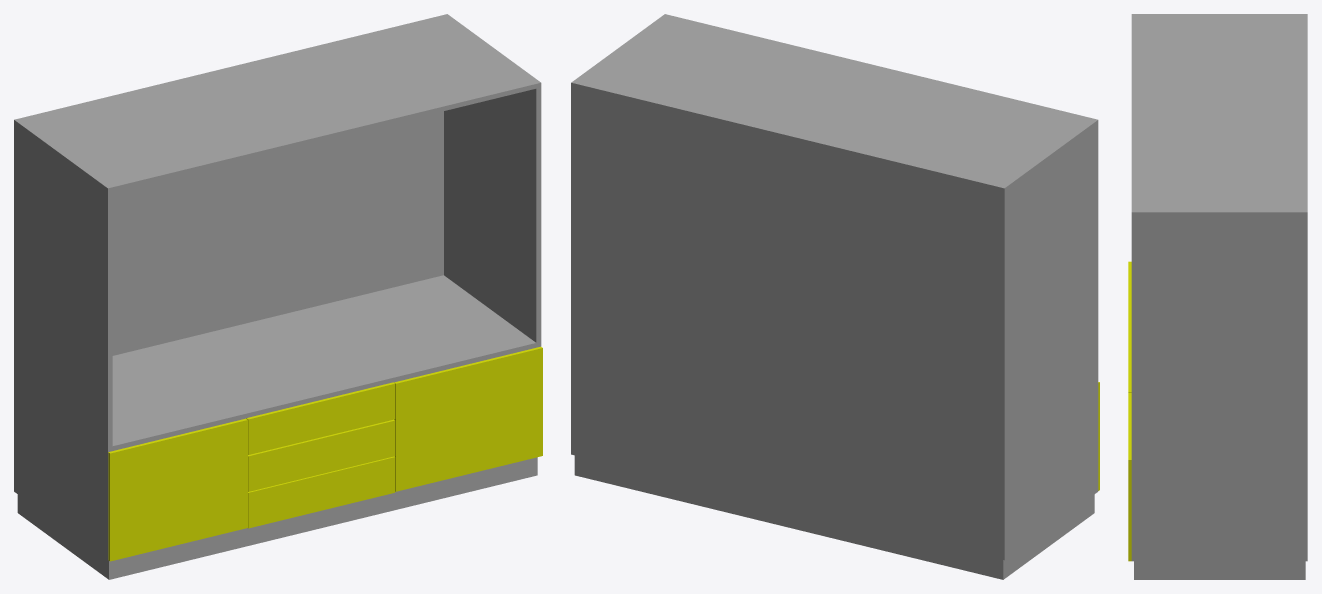
The model's file is ShelvingUnit.fbx.
The picture shows the model from 3 angles, left to right: view 1: azimuth 30°, elevation 25°; view 2: azimuth 150°, elevation 25°; view 3: azimuth 270°, elevation 25°; orthographic projection. The views are drawn at different scales.
Parts seen in each view (by area): view 1: ShelvingUnit; view 2: ShelvingUnit; view 3: ShelvingUnit.
Boxes of the visible parts, box(x1,y1,x2,y2) form: ShelvingUnit: box(14, 14, 542, 579); ShelvingUnit: box(571, 14, 1099, 579); ShelvingUnit: box(1128, 14, 1307, 579).
Size of the model in its own units: 8 by 6.93 by 3.06.
